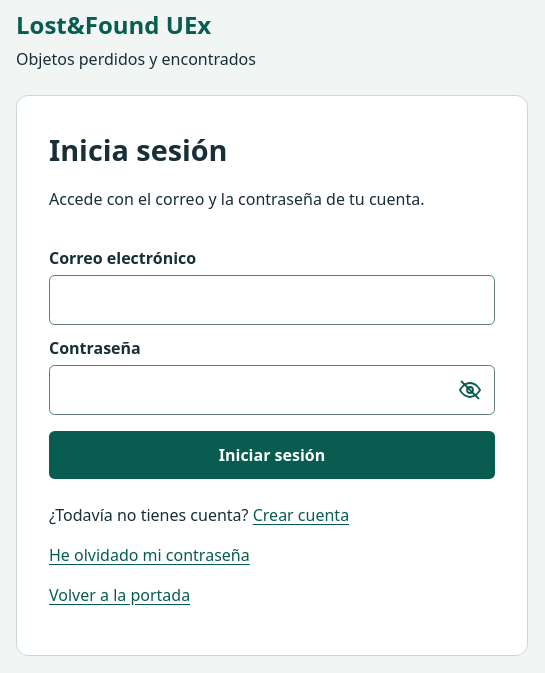
Test: respeta el contrato y la contraseña, incluye cookies y bloquea duplicados
The width and height of the screenshot is (545, 673).
Type "TEST@example.com" into the field labelled "Correo electrónico".
click(272, 300); type("TEST@example.com")  # box [49,275,495,325]
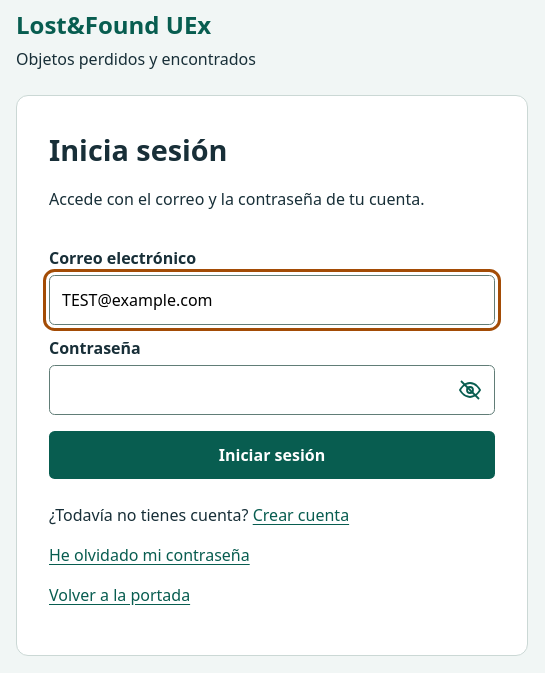
Type " Prueba1234 " into the password field labelled "Contraseña".
click(272, 390); type(" Prueba1234 ")  # box [49,365,495,415]
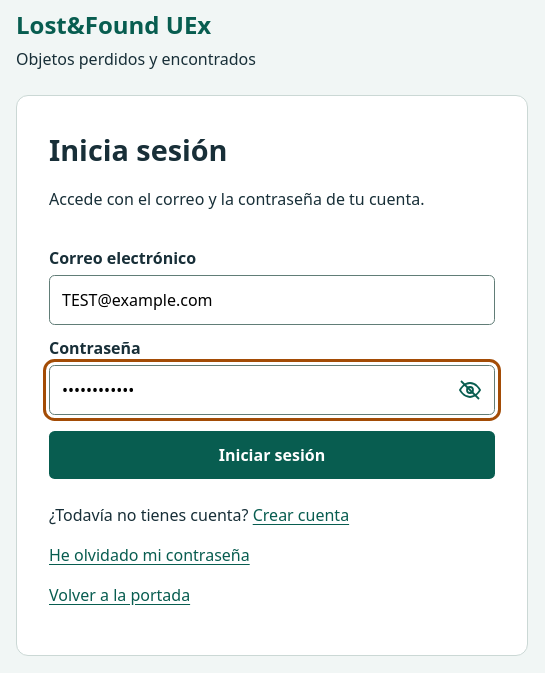
Click the button "Iniciar sesión".
click(272, 455)  # box [49,431,495,479]
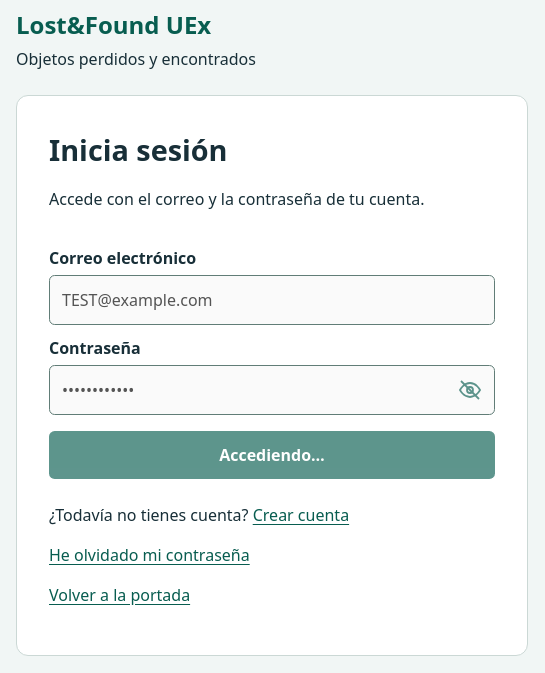
expect the button "Accediendo…" is disabled: met
Click the button "Accediendo…".
click(272, 455)  # box [49,431,495,479]
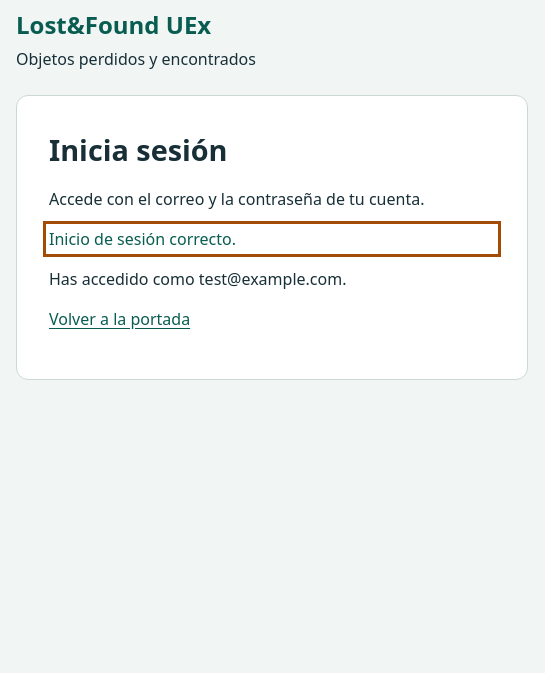
expect the text "Inicio de sesión correcto." is shown: met, box [49,228,236,250]
